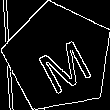M_NW: (26, 24, 91, 91)
